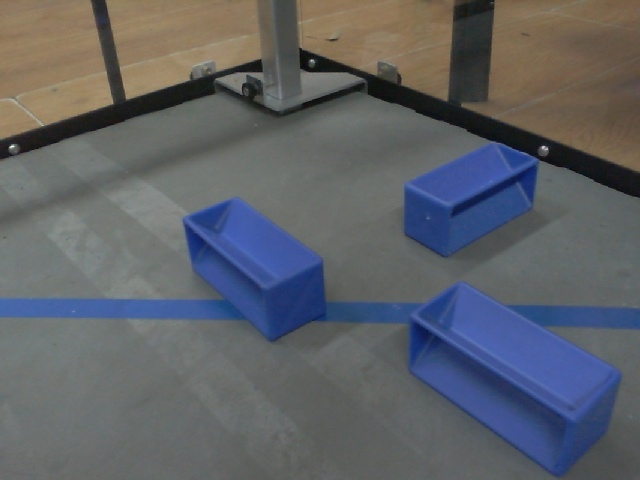BlueSample: (404, 276, 625, 480), (183, 197, 329, 347), (401, 137, 545, 264)
